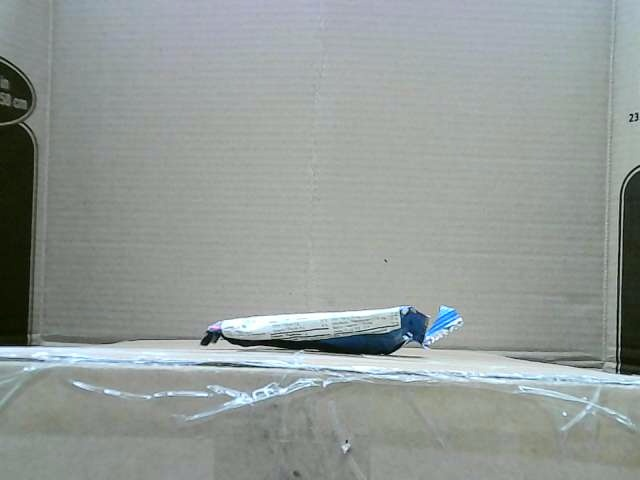CandyWrapper: (199, 304, 463, 355)
